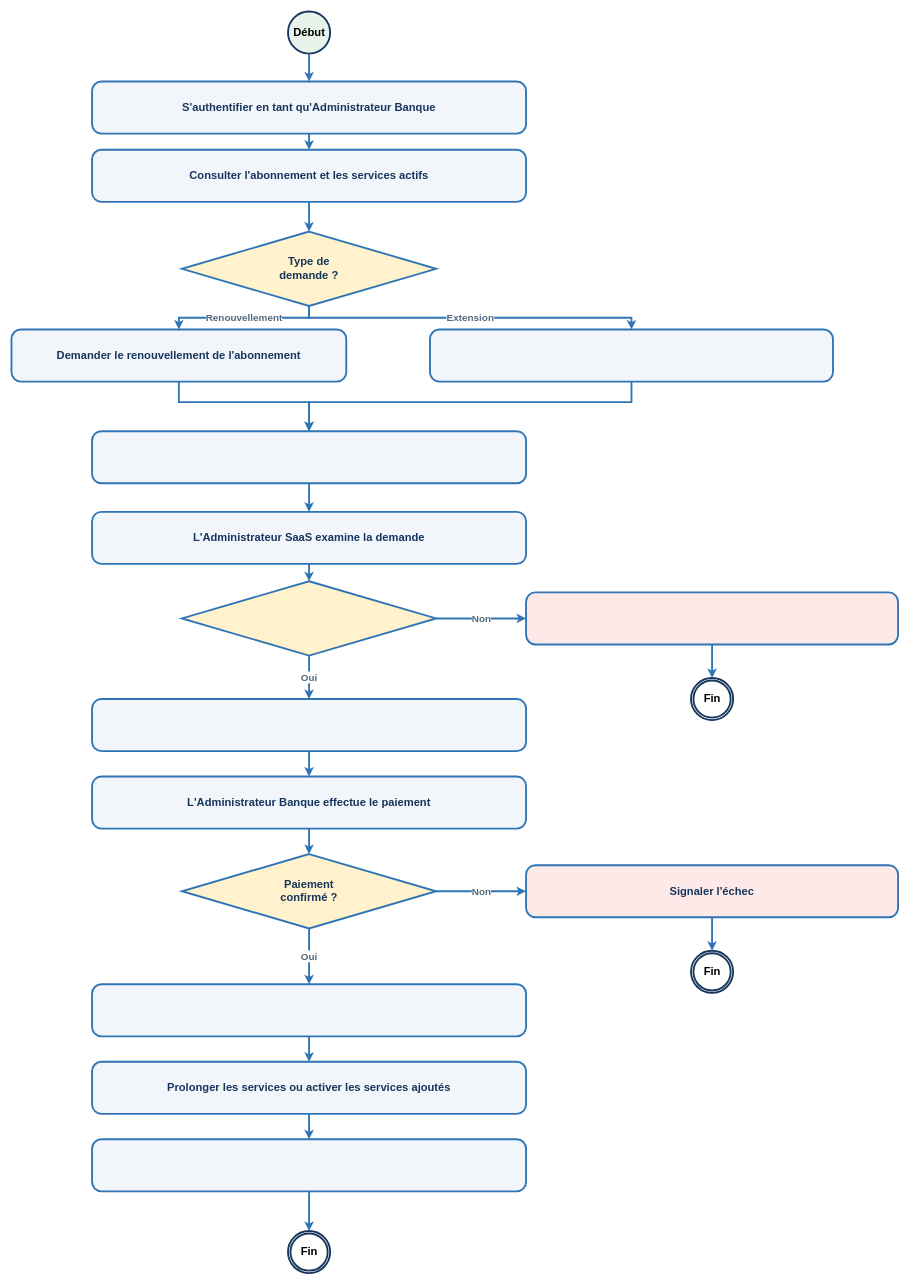
Some shapes in this 910 by 1285 pixel diagram are drawn without their labels. The box of each missing label's shape, as (x1, y1, x2, y2) in pixels:
Créer et transmettre le lien de paiement Stripe: (91, 698, 527, 752)
Demande validée ?: (181, 580, 437, 656)
Mettre à jour l'abonnement: (91, 983, 527, 1037)
Notifier l'Administrateur Banque: (91, 1138, 527, 1192)
Notifier le rejet: (525, 591, 899, 645)
Soumettre la demande: (91, 430, 527, 484)
Sélectionner les nouveaux stores et modules: (429, 328, 834, 382)
